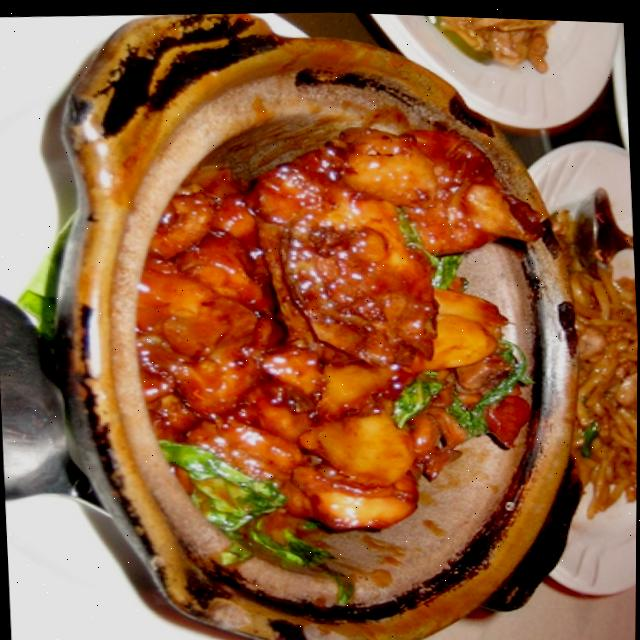鸡肉料理 含炸鸡: (55, 18, 624, 640)
